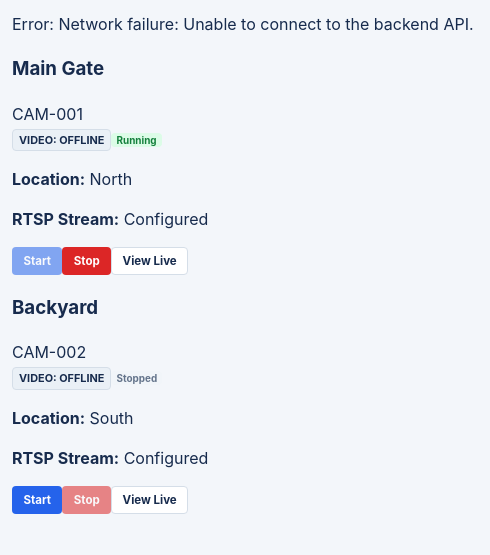
Test: CameraList component integration tests › T9 & T10: API failure renders safe error, 404/400 handled safely
Check: the text "Error: Network failure: Unable to connect to the backend API." is shown, box [12,14,474,34]
Click the button "Start" below "South".
click(37, 500)  # box [12,486,62,514]
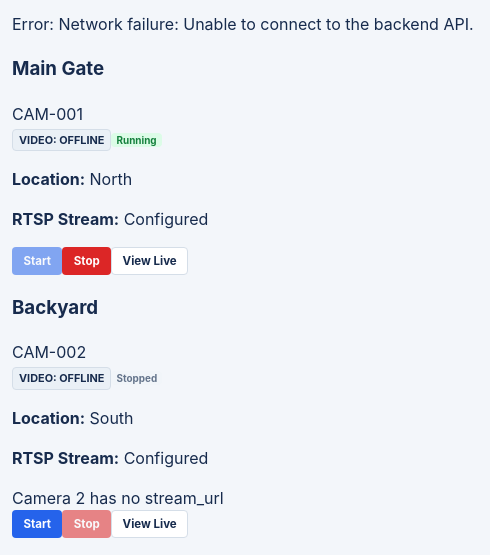
Check: the text "Camera 2 has no stream_url" is shown, box [12,488,224,508]
